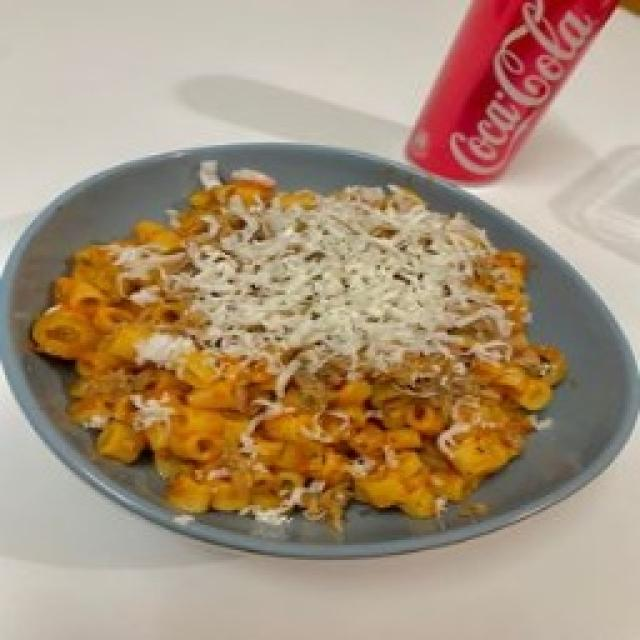Pasta: (32, 169, 565, 524)
